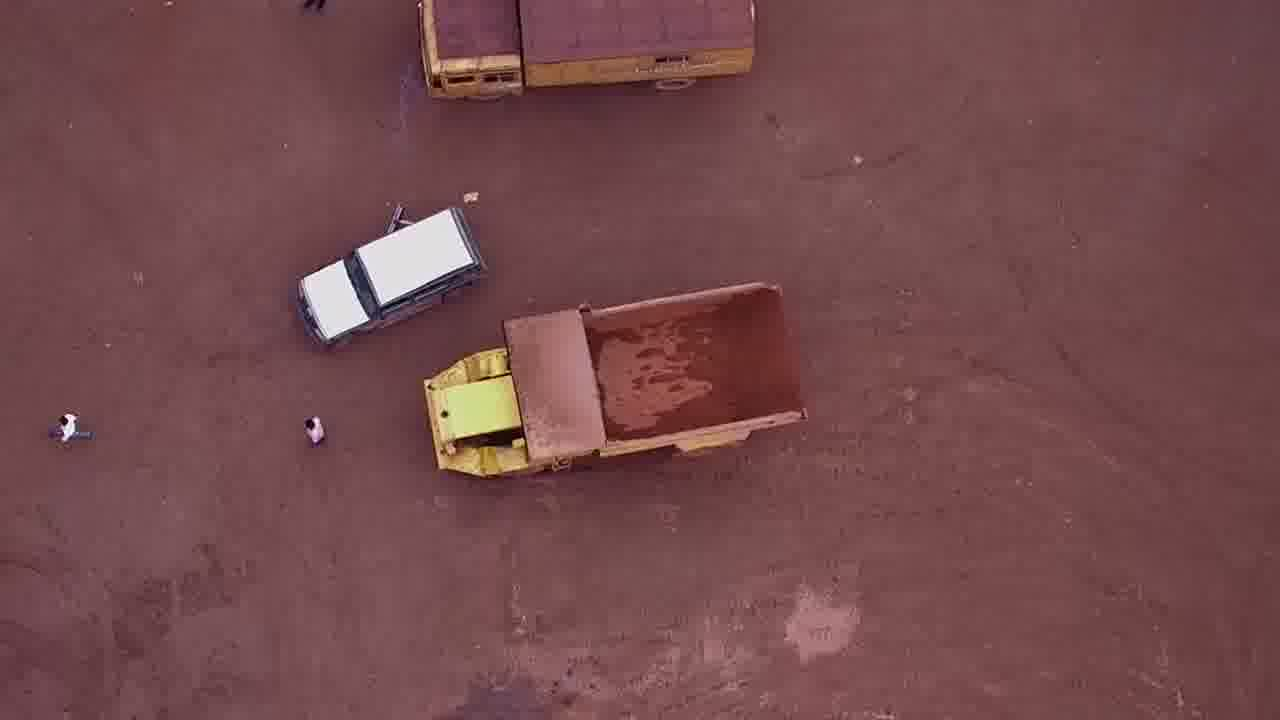HMV: (414, 277, 813, 482), (407, 1, 769, 98)
LMV: (287, 193, 489, 353)
Person: (45, 405, 100, 449), (298, 407, 336, 453)
